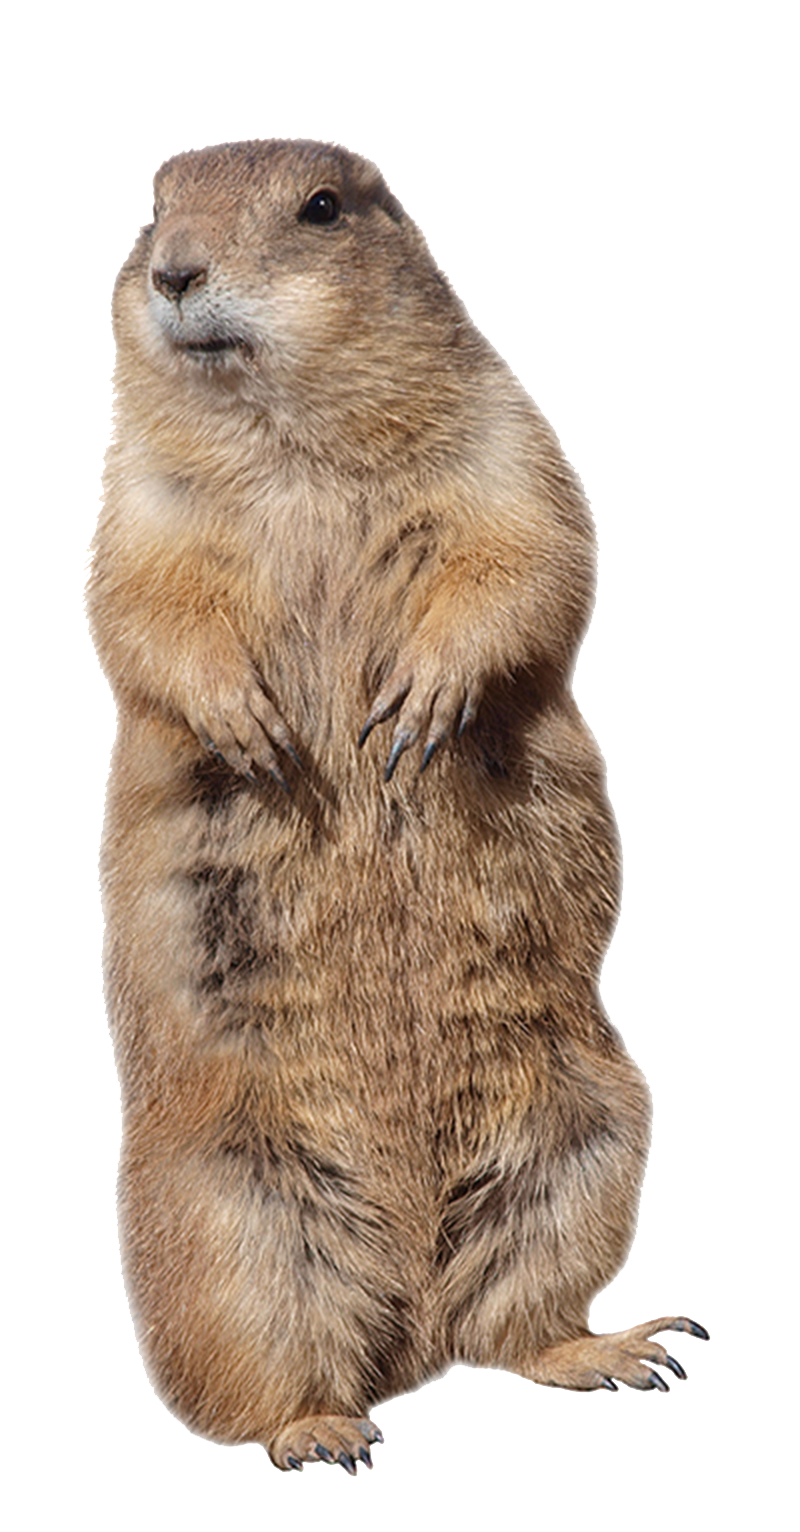gopher: (90, 140, 705, 1454)
